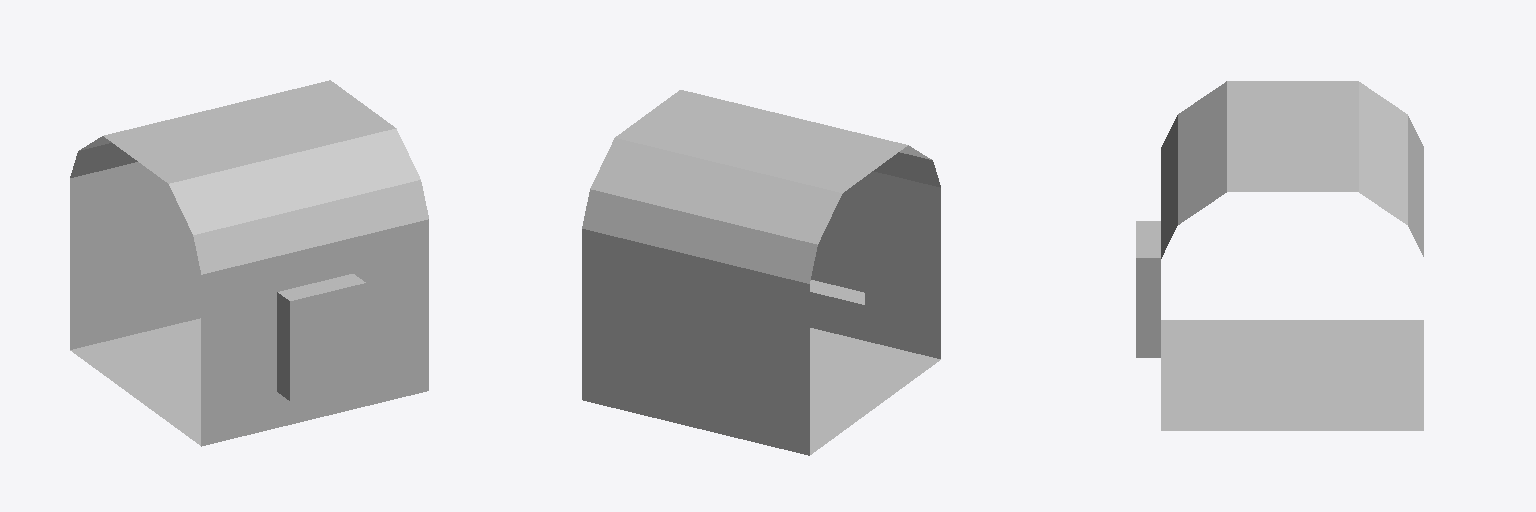
The model's file is corridor_straight_window.obj.
The picture shows the model from 3 angles: view 1: azimuth 30°, elevation 25°; view 2: azimuth 150°, elevation 25°; view 3: azimuth 270°, elevation 25°; orthographic projection.
Parts seen in each view (by area): view 1: Cube; view 2: Cube; view 3: Cube.
Boxes of the visible parts, x1,y1,x2,y2 form: Cube: [70, 80, 428, 446]; Cube: [582, 90, 940, 455]; Cube: [1136, 81, 1423, 430].
Bounding box in the file's own units: 10 × 10 × 10.97.